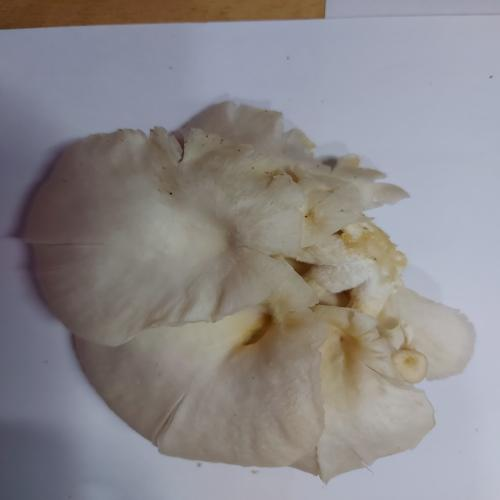Oyster Mushroom: (21, 100, 477, 484)
